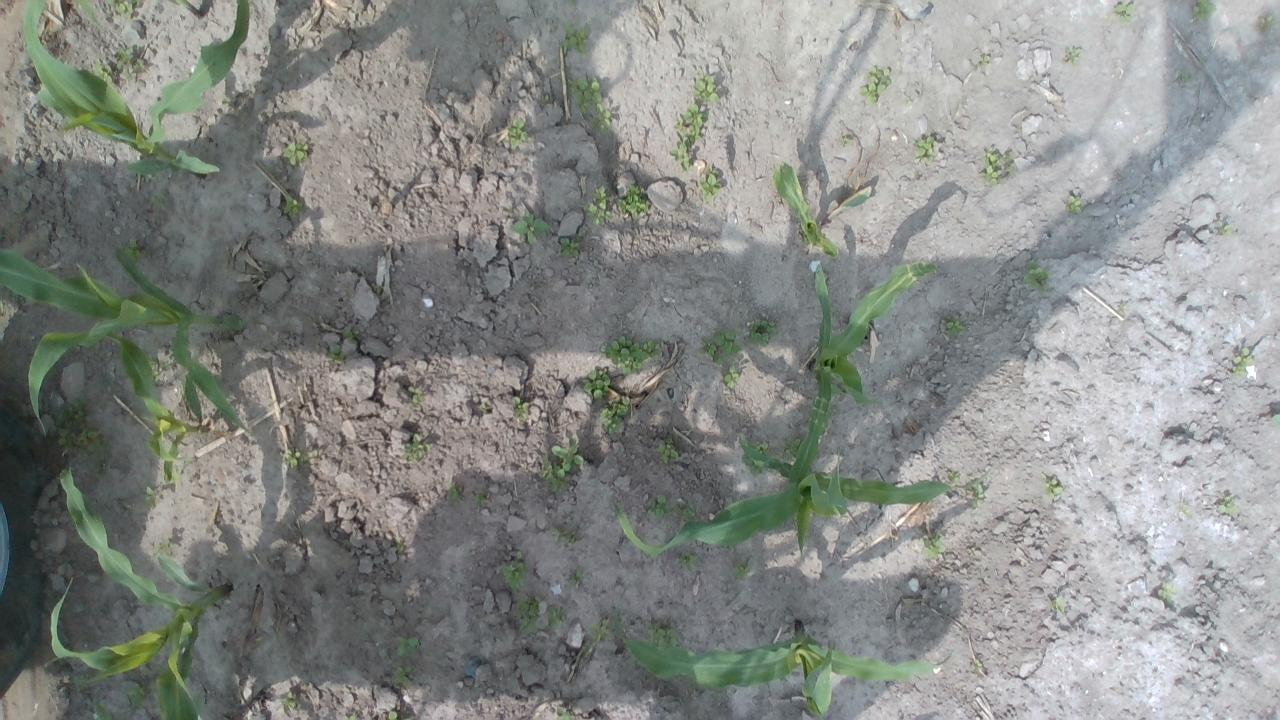Maize: (43, 466, 232, 720), (1, 242, 250, 430), (23, 0, 250, 178), (612, 606, 963, 720), (615, 464, 993, 560), (786, 262, 936, 485), (102, 334, 206, 483), (769, 160, 872, 257), (76, 0, 206, 26)
Weeds: (51, 395, 119, 480), (567, 75, 612, 134), (540, 438, 586, 493), (602, 334, 662, 376), (698, 328, 742, 366), (510, 209, 550, 245), (598, 395, 632, 437), (979, 148, 1014, 187), (673, 103, 708, 141), (859, 65, 891, 105), (584, 185, 614, 226), (616, 183, 650, 219), (558, 23, 591, 56), (1020, 260, 1051, 294), (502, 551, 528, 591), (516, 594, 542, 634), (645, 618, 679, 647), (742, 441, 771, 474), (670, 133, 694, 172), (693, 70, 722, 102), (582, 368, 610, 400), (116, 48, 144, 80), (748, 319, 778, 347), (699, 164, 721, 202), (402, 433, 431, 461), (125, 682, 152, 710), (506, 118, 530, 148), (283, 136, 307, 165), (940, 314, 966, 340), (1231, 348, 1255, 376), (588, 617, 614, 642), (913, 135, 936, 163), (656, 436, 679, 464), (106, 0, 138, 19), (675, 499, 700, 523), (646, 495, 672, 518), (122, 239, 148, 262), (90, 58, 113, 84), (922, 530, 945, 556), (92, 696, 116, 720), (1042, 474, 1064, 500), (552, 524, 582, 543), (777, 436, 800, 460), (396, 634, 420, 657), (1192, 0, 1216, 22), (558, 236, 582, 258), (732, 558, 754, 581), (678, 550, 702, 571), (1114, 1, 1136, 23), (546, 606, 568, 628), (1156, 582, 1178, 603), (1217, 495, 1239, 516), (1258, 14, 1280, 34), (150, 190, 170, 212), (284, 196, 304, 218), (142, 486, 164, 506), (512, 397, 530, 421), (392, 666, 412, 687), (721, 366, 740, 388), (971, 482, 985, 510), (152, 538, 172, 556), (445, 481, 463, 501), (280, 691, 296, 713), (1064, 195, 1082, 214), (284, 448, 302, 467), (328, 345, 348, 362), (407, 385, 422, 406), (148, 356, 160, 382), (140, 661, 162, 675), (1064, 47, 1082, 64), (1216, 220, 1234, 237), (342, 327, 360, 343), (568, 570, 584, 587), (1050, 596, 1066, 612), (472, 489, 487, 506), (1178, 503, 1193, 518), (556, 708, 574, 720), (946, 469, 960, 483), (839, 136, 853, 148), (972, 659, 982, 672), (978, 56, 990, 66), (540, 94, 552, 104), (1272, 412, 1280, 426), (1180, 73, 1191, 83), (1119, 304, 1130, 313), (343, 714, 358, 720), (388, 711, 397, 720), (396, 542, 403, 552), (578, 229, 586, 237)
